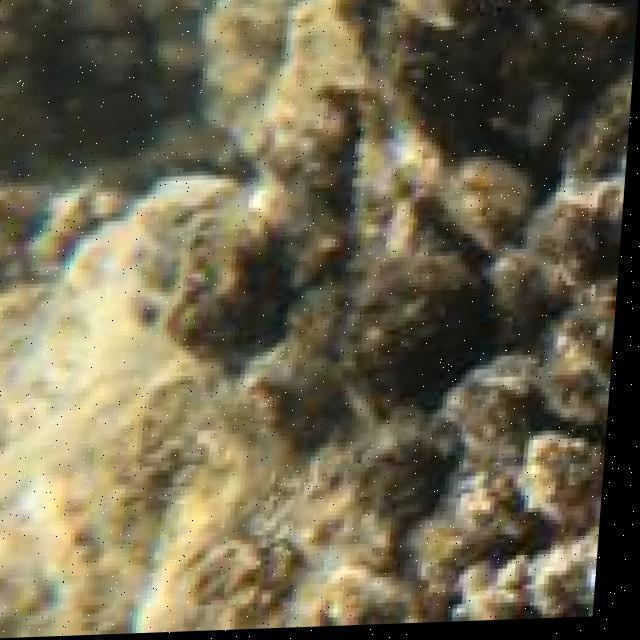Dead Coral: (282, 0, 640, 627)
